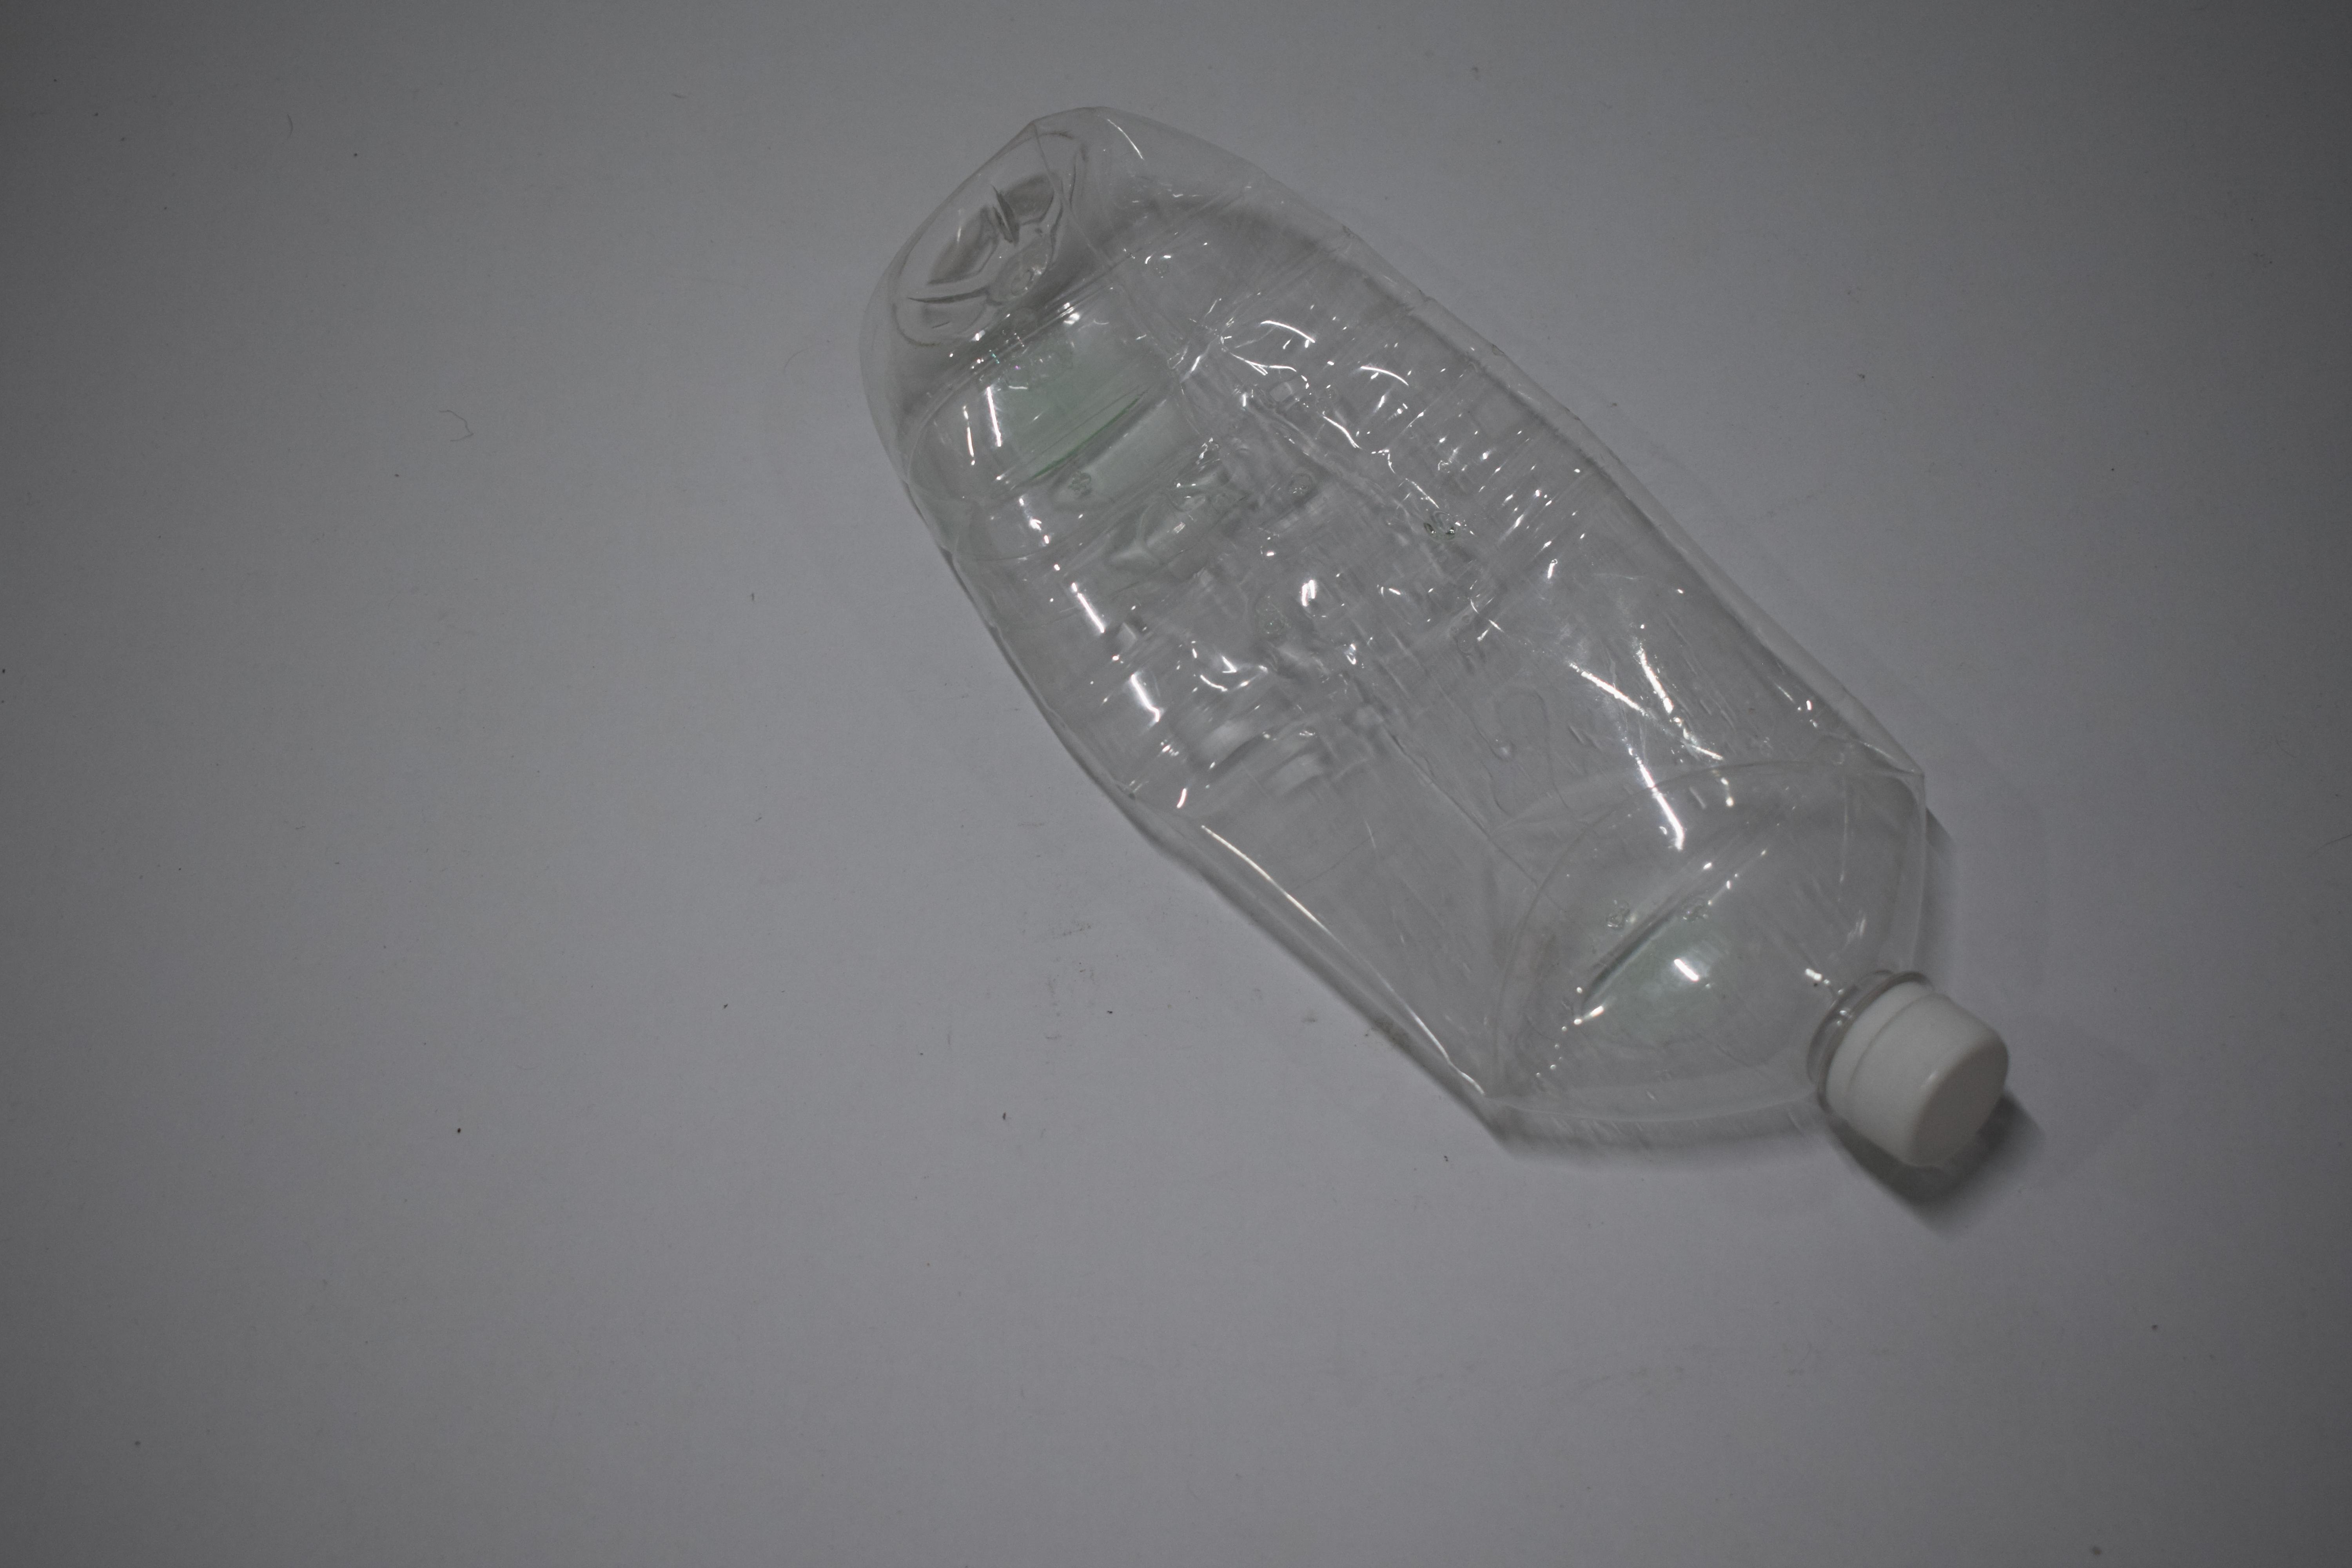bottle: (856, 91, 2009, 1183)
